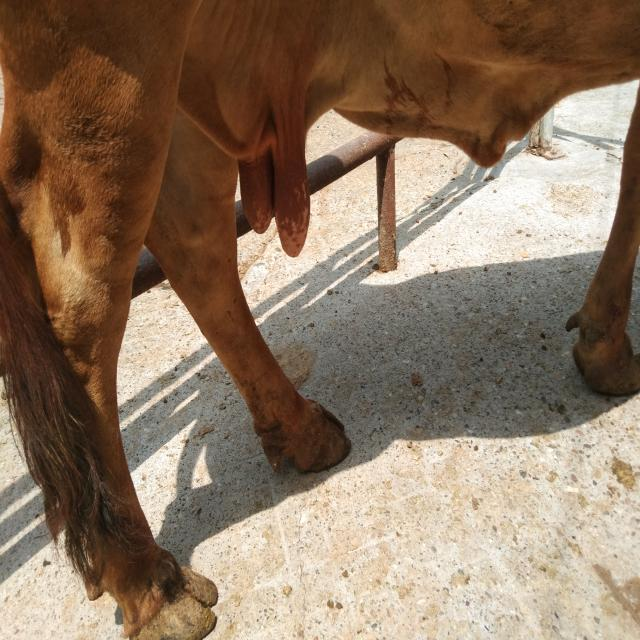Hoof: (259, 396, 351, 474), (565, 308, 639, 397)
